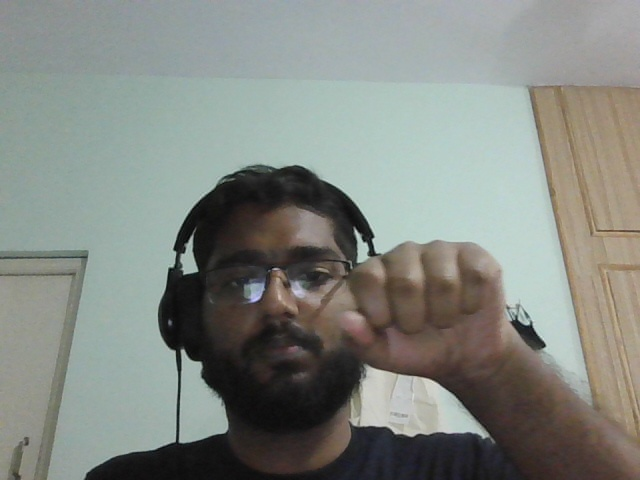Yes: (318, 240, 554, 394)
